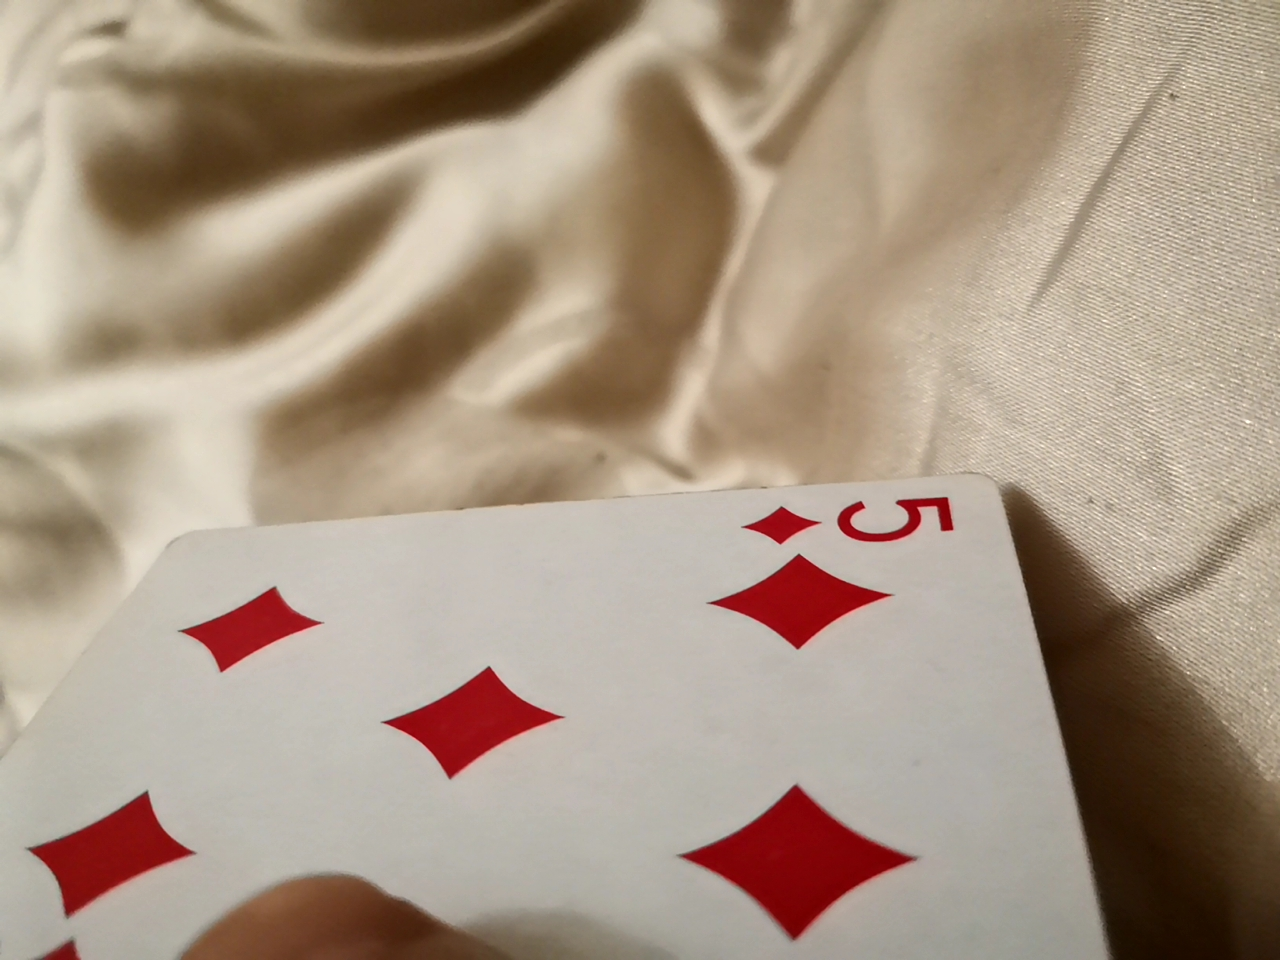fk 5: (3, 453, 1140, 953)
